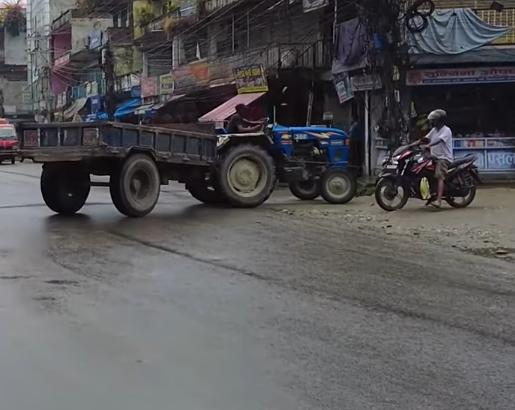bike: (375, 139, 489, 214)
tractor: (206, 82, 360, 212)
